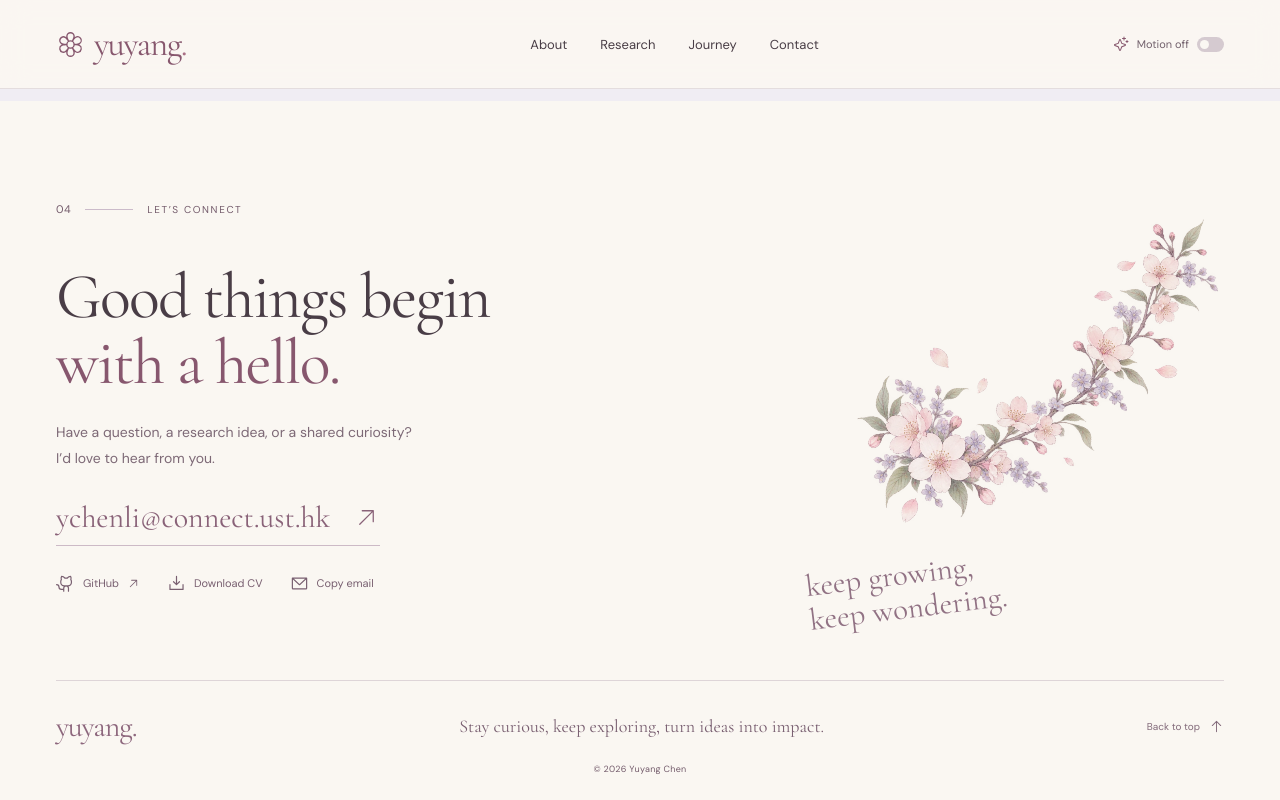
it: Research garden › uses the Pages subpath for CV downloads and copies the advertised email
This screenshot has width=1280, height=800.
(page scrolled)
Click the button "Copy email" at (332, 584), box [290,568,374,599]
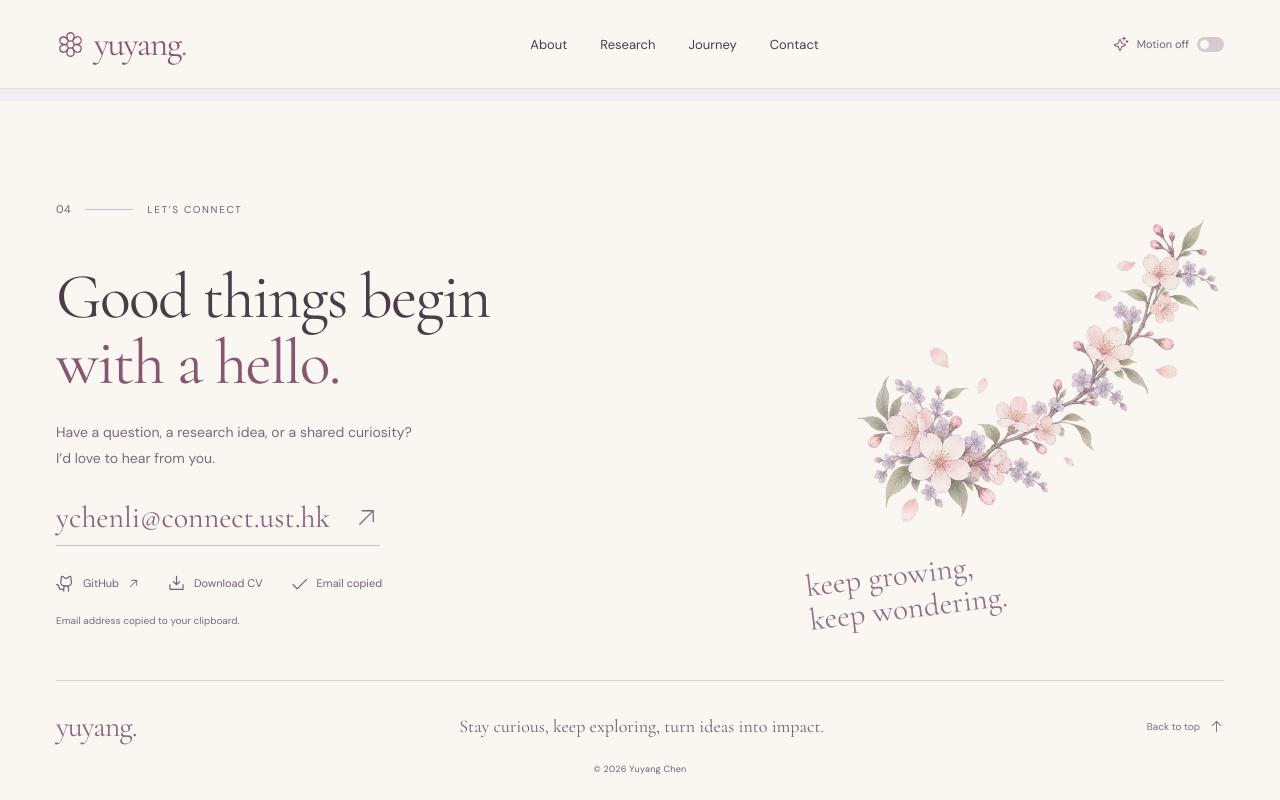
Result: the message shows "copied" at [56,614,240,627]
